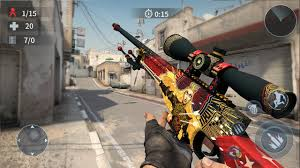gun: (110, 21, 296, 167)
